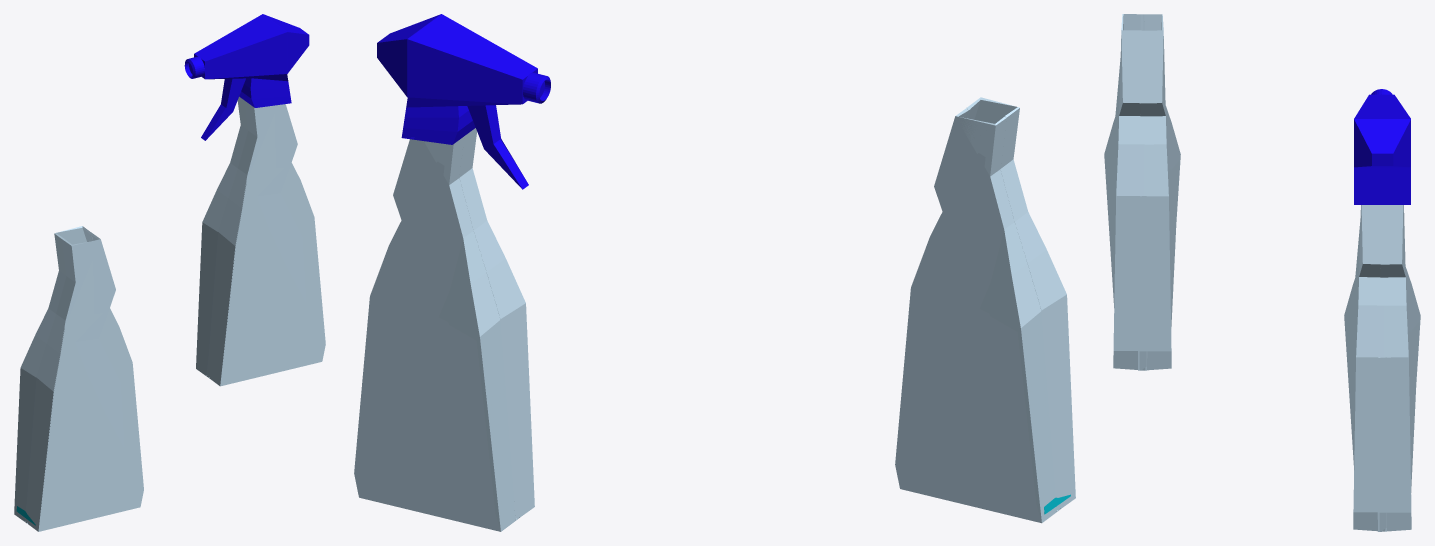
File: nozzle.fbx
The picture shows the model from 3 angles, left to right: view 1: azimuth 30°, elevation 25°; view 2: azimuth 150°, elevation 25°; view 3: azimuth 270°, elevation 25°; orthographic projection. The views are drawn at different scales.
Parts seen in each view (by area): view 1: Cube.028, Cube.021, Cube.023, Cube.024, Cube.022, Cylinder; view 2: Cube.022, Cube.027, Cube.028, Cube.021, Cube.023, Cube.024; view 3: Cube.021, Cube.028, Cube.027, Cube.022, Cube.023.
Part boxes in pixels (left/top/right/bottom): Cube.028: left=24, top=96, right=248, bottom=531; Cube.021: left=14, top=101, right=325, bottom=523; Cube.023: left=194, top=14, right=309, bottom=107; Cube.024: left=201, top=78, right=245, bottom=140; Cube.022: left=20, top=226, right=92, bottom=523; Cylinder: left=184, top=56, right=204, bottom=78; Cube.022: left=895, top=108, right=1060, bottom=523; Cube.027: left=354, top=139, right=519, bottom=531; Cube.028: left=424, top=97, right=1075, bottom=531; Cube.021: left=459, top=110, right=1060, bottom=522; Cube.023: left=377, top=14, right=537, bottom=144; Cube.024: left=467, top=105, right=528, bottom=189; Cube.021: left=1138, top=14, right=1386, bottom=531; Cube.028: left=1104, top=14, right=1420, bottom=381; Cube.027: left=1377, top=205, right=1419, bottom=531; Cube.022: left=1139, top=14, right=1179, bottom=370; Cube.023: left=1354, top=94, right=1410, bottom=204.
Bounding box in the file's own units: 894 × 738 × 541.
